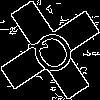Q: (25, 25, 85, 87)
